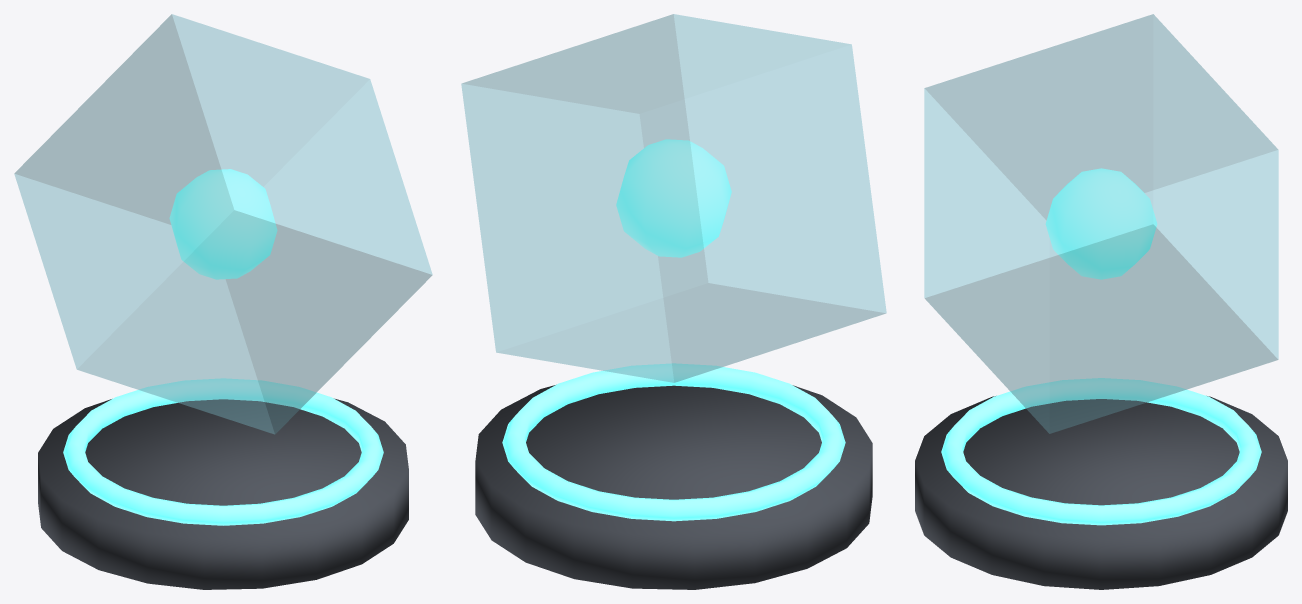
The model's file is holo_lamp_cube.glb.
3 views of the same model, side by side, from view 1: azimuth 30°, elevation 25°; view 2: azimuth 150°, elevation 25°; view 3: azimuth 270°, elevation 25° (orthographic). The views are drawn at different scales.
Parts seen in each view (by area): view 1: GD_holo_lamp_cube__m2, GD_holo_lamp_cube__m0, GD_holo_lamp_cube__m1; view 2: GD_holo_lamp_cube__m2, GD_holo_lamp_cube__m0, GD_holo_lamp_cube__m1; view 3: GD_holo_lamp_cube__m2, GD_holo_lamp_cube__m0, GD_holo_lamp_cube__m1.
Boxes of the visible parts, left/top/right/bottom form: GD_holo_lamp_cube__m2: left=14, top=14, right=432, bottom=434; GD_holo_lamp_cube__m0: left=38, top=398, right=408, bottom=589; GD_holo_lamp_cube__m1: left=63, top=169, right=383, bottom=525; GD_holo_lamp_cube__m2: left=461, top=14, right=886, bottom=382; GD_holo_lamp_cube__m0: left=475, top=385, right=872, bottom=589; GD_holo_lamp_cube__m1: left=502, top=139, right=845, bottom=521; GD_holo_lamp_cube__m2: left=924, top=14, right=1278, bottom=433; GD_holo_lamp_cube__m0: left=915, top=396, right=1287, bottom=589; GD_holo_lamp_cube__m1: left=941, top=168, right=1261, bottom=525.
Size of the model in its own units: 0.2139 by 0.2869 by 0.2.
